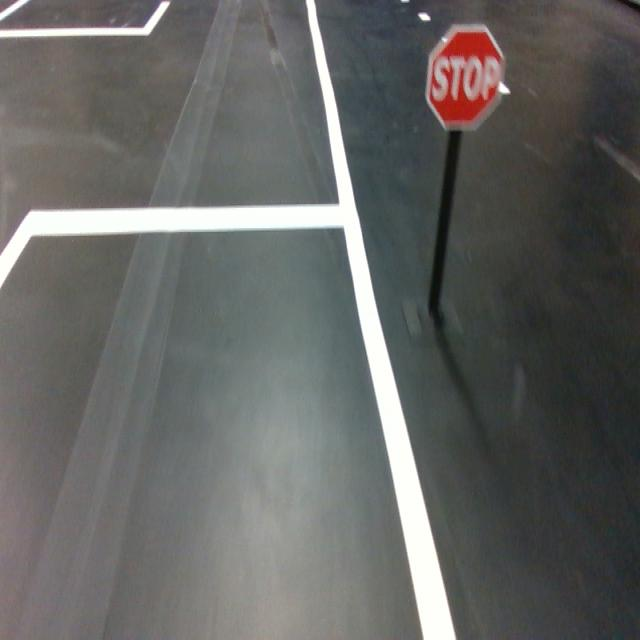stop-sign: (424, 22, 506, 132)
